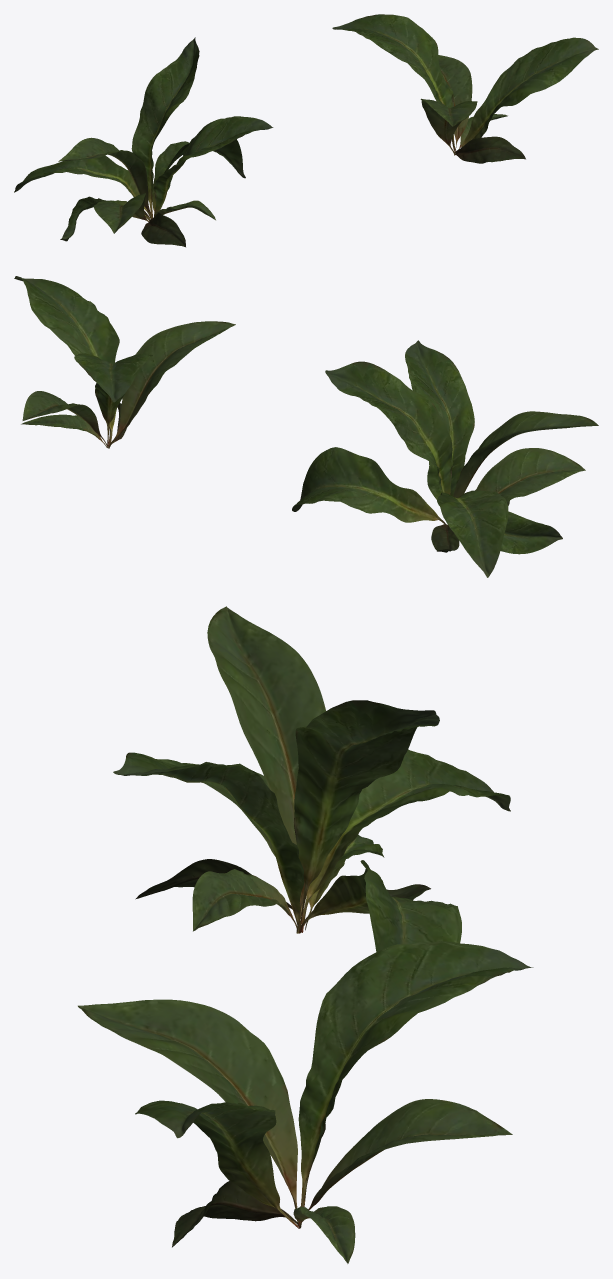
The model's file is anthurium.glb.
The picture shows the model from 3 angles, top to bottom: view 1: azimuth 30°, elevation 25°; view 2: azimuth 150°, elevation 25°; view 3: azimuth 270°, elevation 25°; orthographic projection. The views are drawn at different scales.
Visible parts, largest first — view 1: anthurium_botany_01_b, anthurium_botany_01_c; view 2: anthurium_botany_01_b, anthurium_botany_01_c; view 3: anthurium_botany_01_b, anthurium_botany_01_c.
Part boxes in pixels (left/top/right/bottom): anthurium_botany_01_b: left=14, top=37, right=273, bottom=247; anthurium_botany_01_c: left=332, top=14, right=598, bottom=163; anthurium_botany_01_b: left=292, top=340, right=598, bottom=577; anthurium_botany_01_c: left=14, top=276, right=235, bottom=448; anthurium_botany_01_b: left=113, top=606, right=510, bottom=1016; anthurium_botany_01_c: left=78, top=941, right=533, bottom=1263.
Size of the model in its own units: 1.75 by 0.4719 by 0.6574.
1 material, 1 textured.
